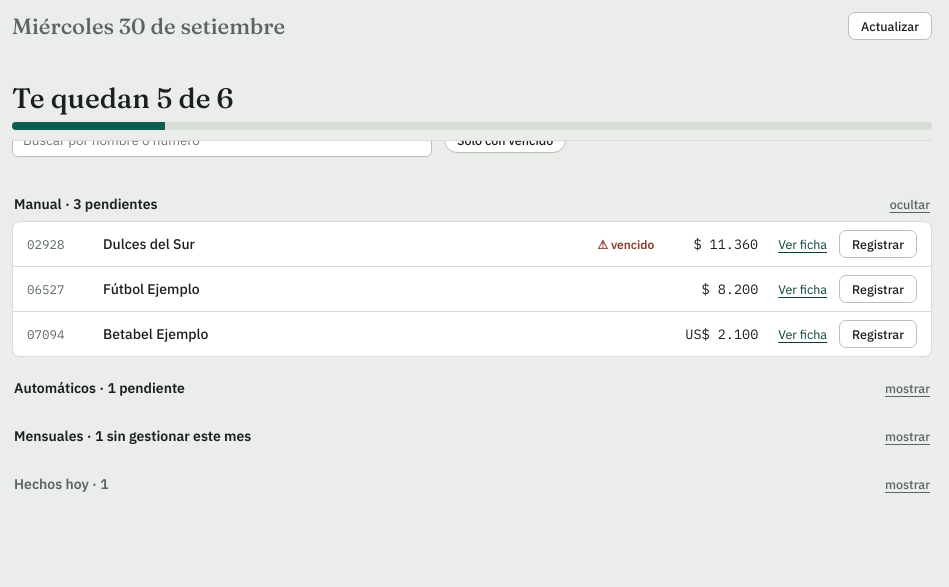
Test: MiDiaPage: registrar sin salir › al guardar la fila se apaga en su lugar, sin desaparecer, y el progreso avanza
The image size is (949, 587).
Expected: the text "Te quedan 5 de 6" is shown, 12,81 -> 234,115
Click the button with aria-label "Registrar gestión de Dulces del Sur" at (878, 244), box 839,230 -> 917,258
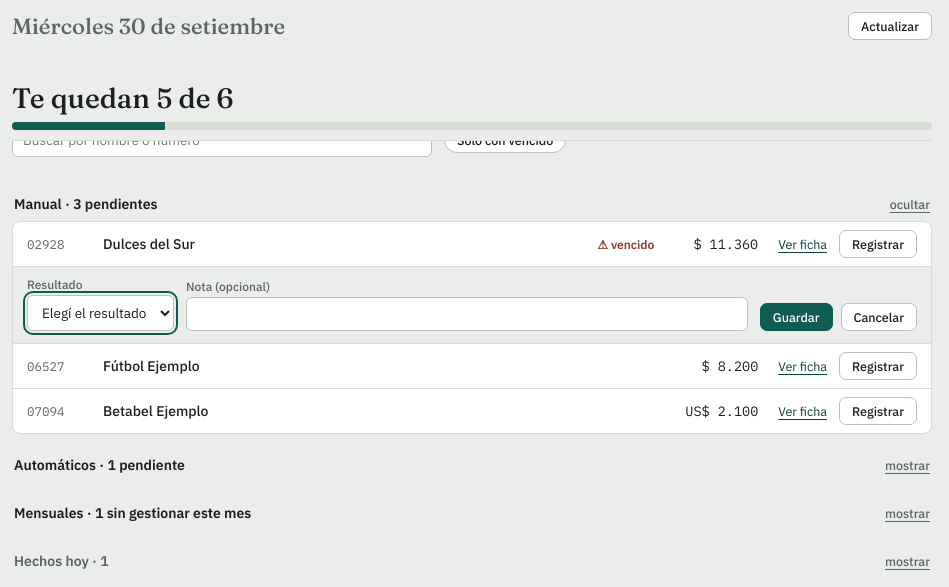
Select "Pago coordinado" in the dropdown labelled "Resultado" at (100, 313), box 27,295 -> 174,331
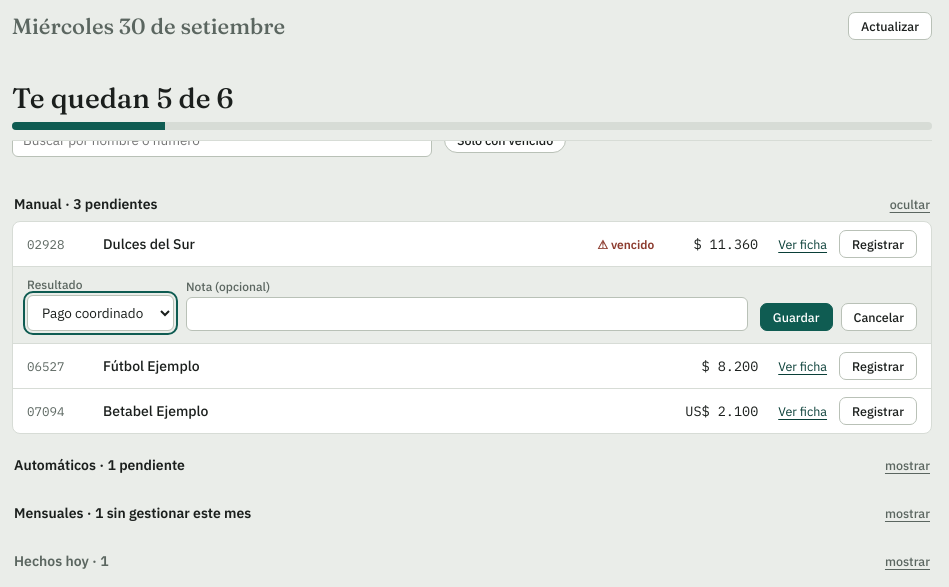
Type " Paga el viernes " into the field labelled "Nota (opcional)" at (467, 314), box 186,297 -> 748,331
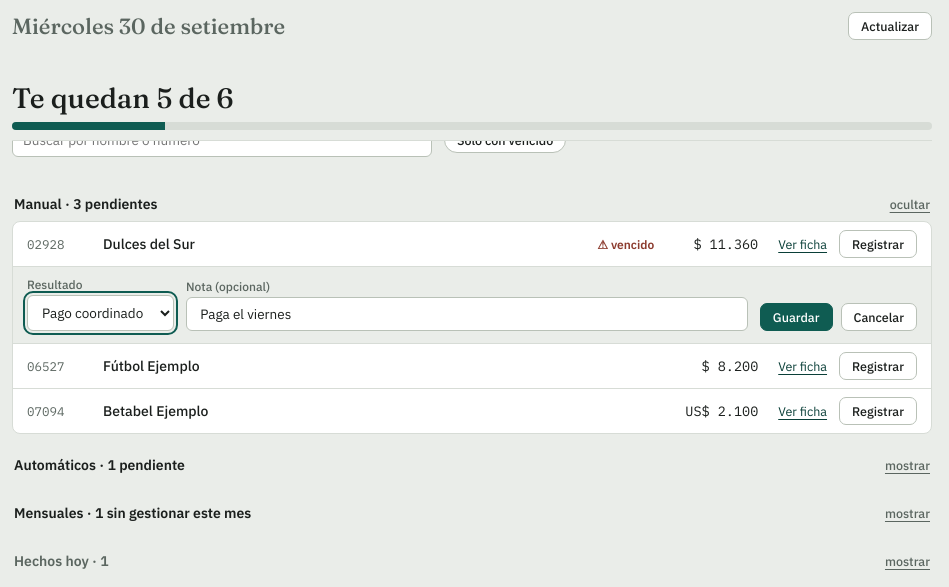
Click the button "Guardar" at (796, 317), box 760,303 -> 832,331
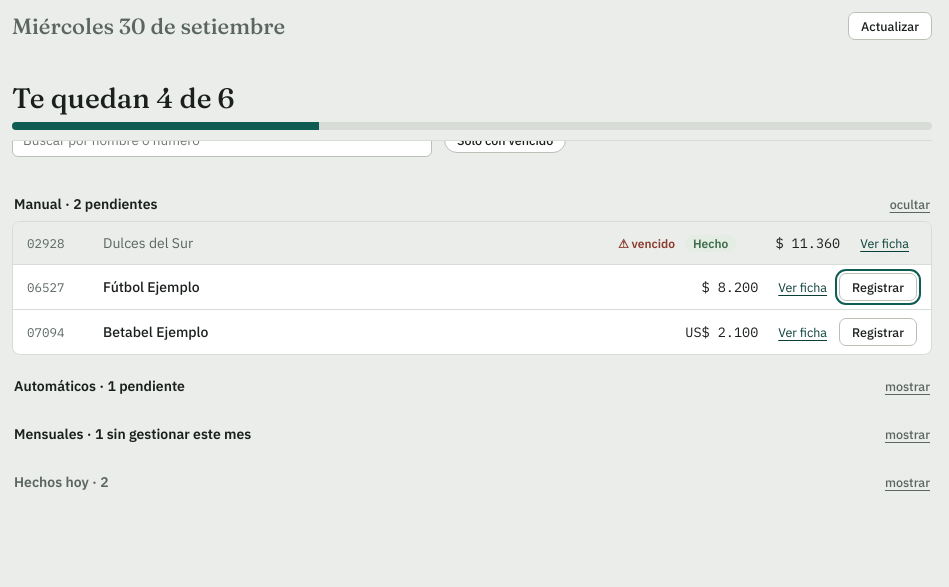
Expected: the text with test id "midia-nombre" reads "Dulces del Sur", 103,234 -> 193,252
Expected: the text "Te quedan 4 de 6" is shown, 12,81 -> 234,115
Expected: the text "Hecho" is shown, 685,235 -> 736,252
